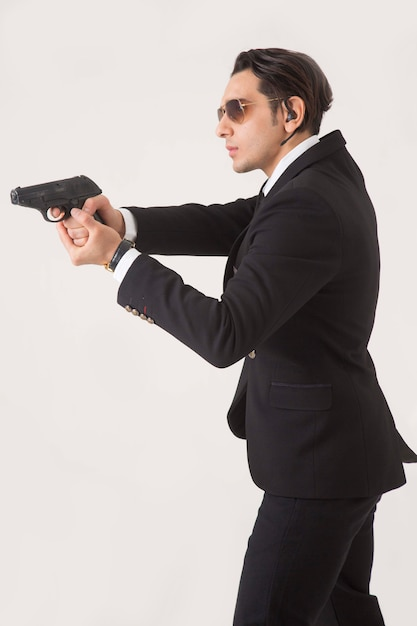gun: (8, 172, 108, 232)
